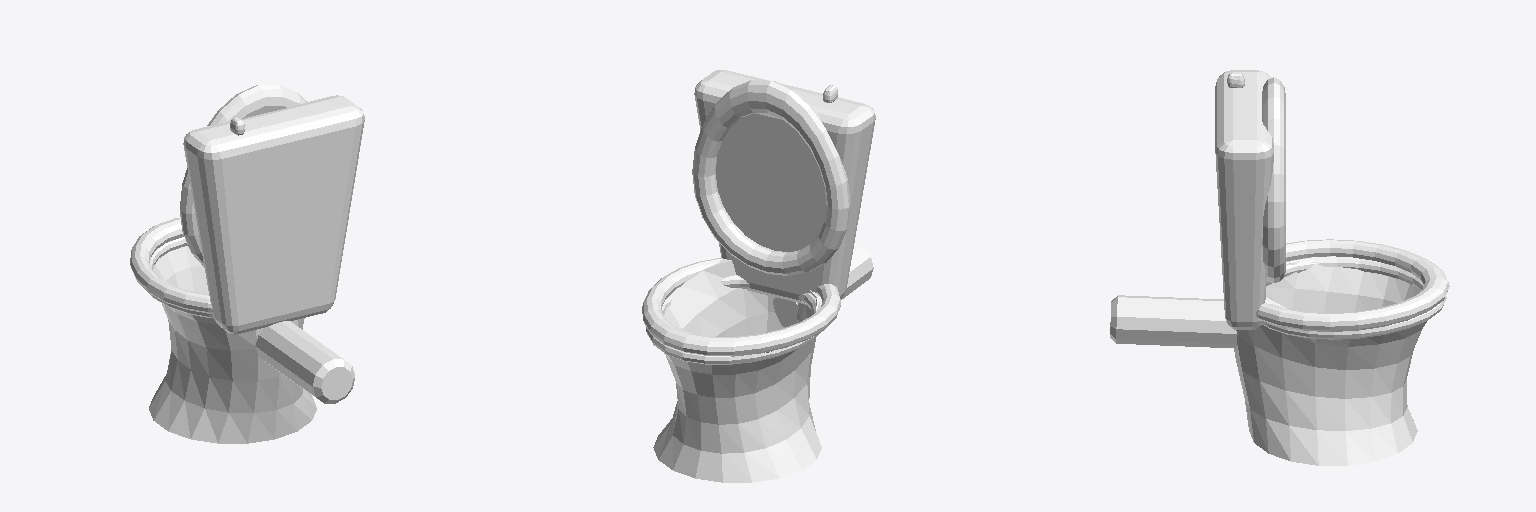
File: turbo_unitaz.obj
3 views of the same model, side by side, from view 1: azimuth 30°, elevation 25°; view 2: azimuth 150°, elevation 25°; view 3: azimuth 270°, elevation 25° (orthographic).
Visible parts, largest first — view 1: ChamferBox[number redacted], Tube001, ChamferCyl001, Torus003, Torus002, Torus001; view 2: Tube001, ChamferBox[number redacted], Torus003, Torus002, Torus001, ChamferCyl001; view 3: Tube001, ChamferBox[number redacted], Torus002, ChamferCyl001, Torus003, Torus001.
Part boxes in pixels (left/top/right/bottom): ChamferBox[number redacted]: left=183, top=95, right=364, bottom=334; Tube001: left=149, top=246, right=316, bottom=443; ChamferCyl001: left=255, top=321, right=354, bottom=403; Torus003: left=180, top=85, right=307, bottom=267; Torus002: left=130, top=218, right=212, bottom=313; Torus001: left=142, top=237, right=213, bottom=317; Tube001: left=653, top=259, right=821, bottom=482; ChamferBox[number redacted]: left=694, top=70, right=875, bottom=304; Torus003: left=692, top=80, right=850, bottom=275; Torus002: left=642, top=258, right=840, bottom=356; Torus001: left=646, top=275, right=821, bottom=364; ChamferCyl001: left=773, top=242, right=873, bottom=327; Tube001: left=1234, top=262, right=1426, bottom=465; ChamferBox[number redacted]: left=1215, top=70, right=1273, bottom=329; Torus002: left=1256, top=239, right=1449, bottom=331; ChamferCyl001: left=1110, top=295, right=1237, bottom=348; Torus003: left=1262, top=77, right=1285, bottom=282; Torus001: left=1262, top=256, right=1446, bottom=339.
Size of the model in its own units: 92.93 by 183 by 163.